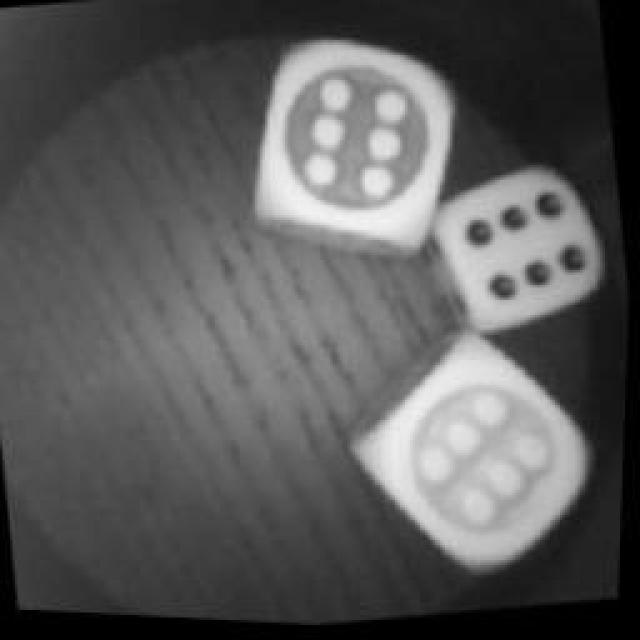dice_6: (340, 315, 615, 600), (236, 18, 479, 270), (426, 156, 616, 346)
